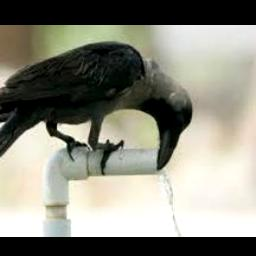Crow: (0, 41, 193, 186)
